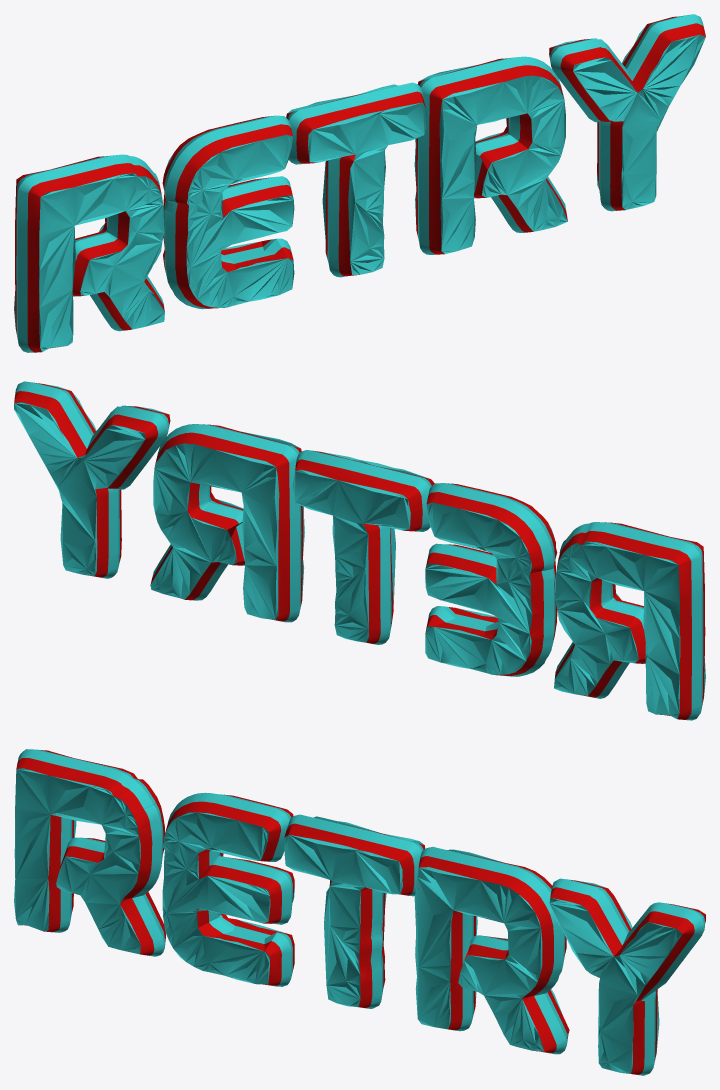
Rendered from TextRetry.fbx.
The picture shows the model from 3 angles, top to bottom: view 1: azimuth 30°, elevation 25°; view 2: azimuth 150°, elevation 25°; view 3: azimuth 330°, elevation 25°; orthographic projection.
Visible parts, largest first — view 1: TextRetry; view 2: TextRetry; view 3: TextRetry.
Part boxes in pixels (x1,y1,x2,y2): TextRetry: (14, 14, 705, 352); TextRetry: (14, 381, 705, 720); TextRetry: (14, 749, 705, 1075).
Size of the model in its own units: 3227 by 802 by 258.
